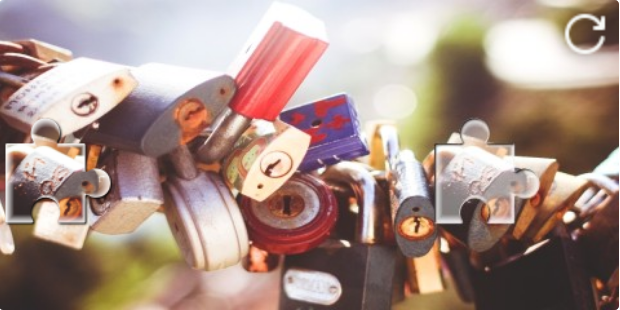target: (434, 119, 540, 224)
